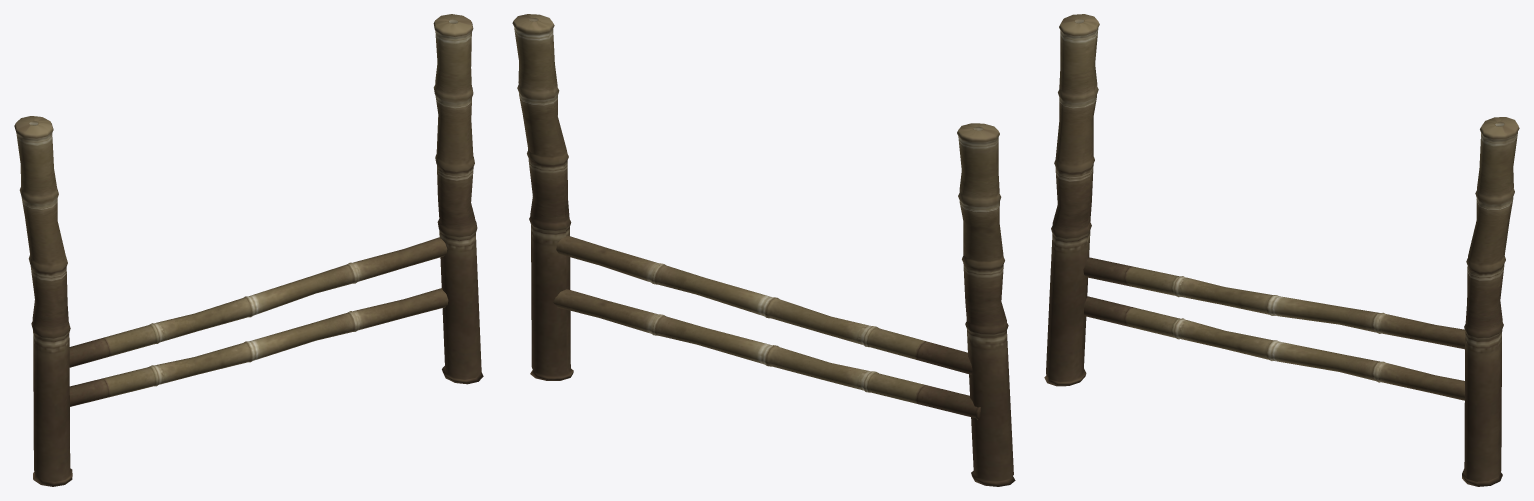
The model's file is hangraotre_nhayqua.fbx.
The picture shows the model from 3 angles, left to right: view 1: azimuth 30°, elevation 25°; view 2: azimuth 150°, elevation 25°; view 3: azimuth 330°, elevation 25°; orthographic projection. The views are drawn at different scales.
Parts seen in each view (by area): view 1: khung.001; view 2: khung.001; view 3: khung.001.
Part boxes in pixels (<box>): khung.001: <box>14,14,483,486</box>; khung.001: <box>512,14,1015,486</box>; khung.001: <box>1044,14,1519,486</box>.
Bounding box in the file's own units: 77.48 × 56.11 × 10.76.
Materials: 1 (1 with a texture image).
